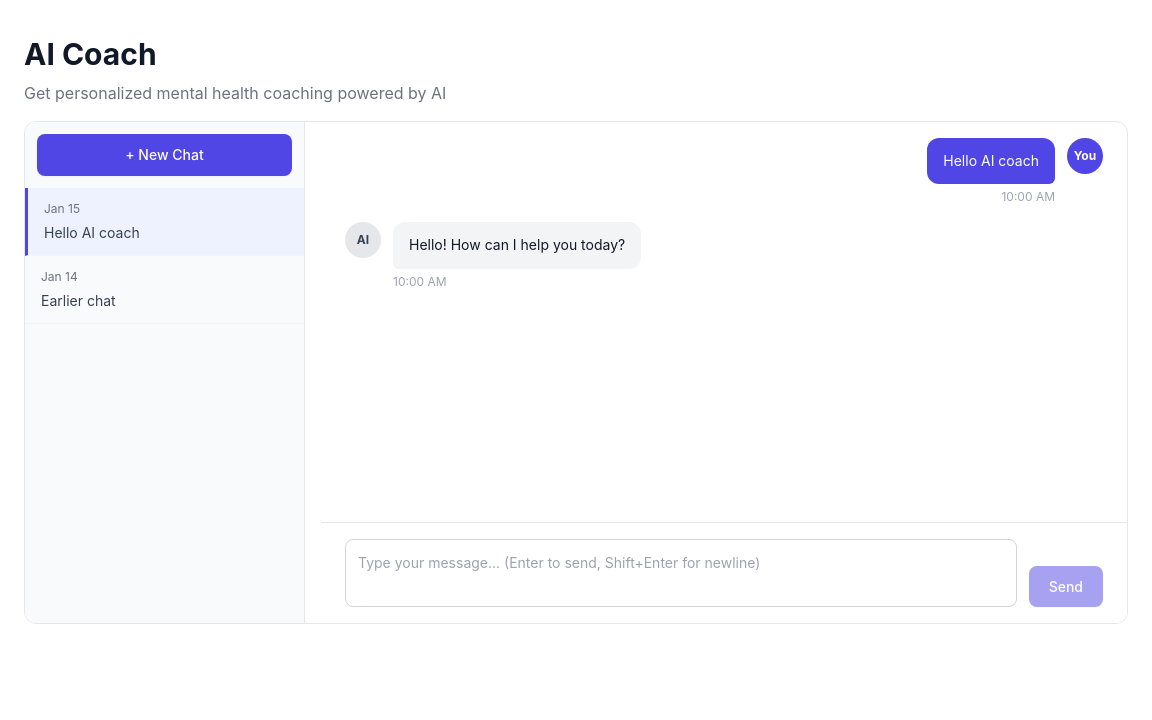
it: ChatView › clears conversation on New Chat click
expect the number of elements with class "message" is 2: met, box 927,138 -> 1103,206; 345,222 -> 641,291
Step 1. Click the button with class "new-chat-btn" → {"x": 164, "y": 155}, box 37,134 -> 292,176
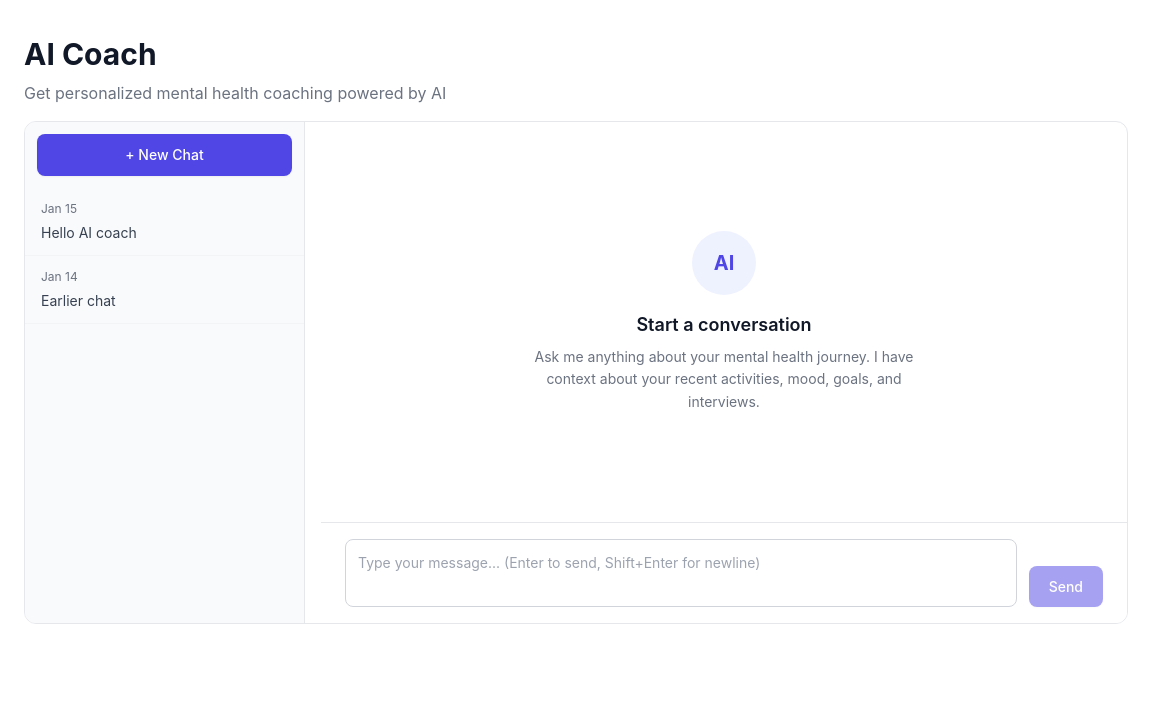
expect the element with class "empty-state" is shown: met, box 535,231 -> 914,410
